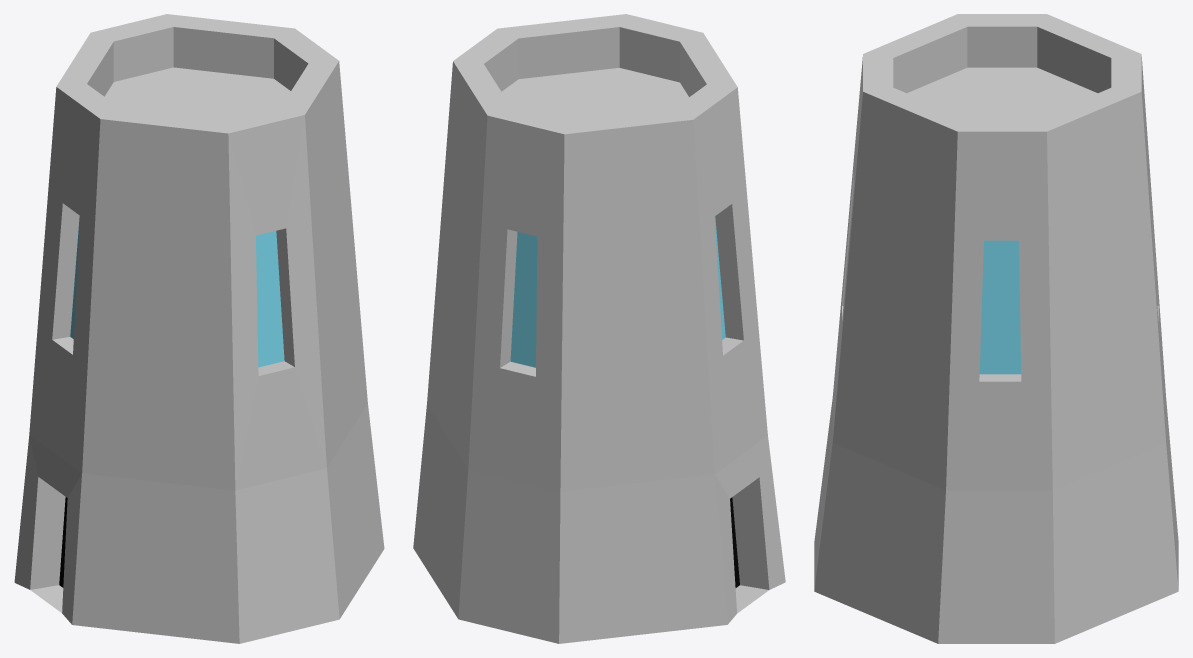
File: Small_castle.fbx
3 renders of one model, left to right at view 1: azimuth 30°, elevation 25°; view 2: azimuth 150°, elevation 25°; view 3: azimuth 270°, elevation 25°, orthographic.
Parts seen in each view (by area): view 1: Building_12; view 2: Building_12; view 3: Building_12.
Part boxes in pixels (box(x1,y1,x2,y2)): Building_12: box(14, 14, 384, 643); Building_12: box(413, 14, 785, 643); Building_12: box(814, 14, 1178, 643).
Bounding box in the file's own units: 1408 × 2114 × 1408.
